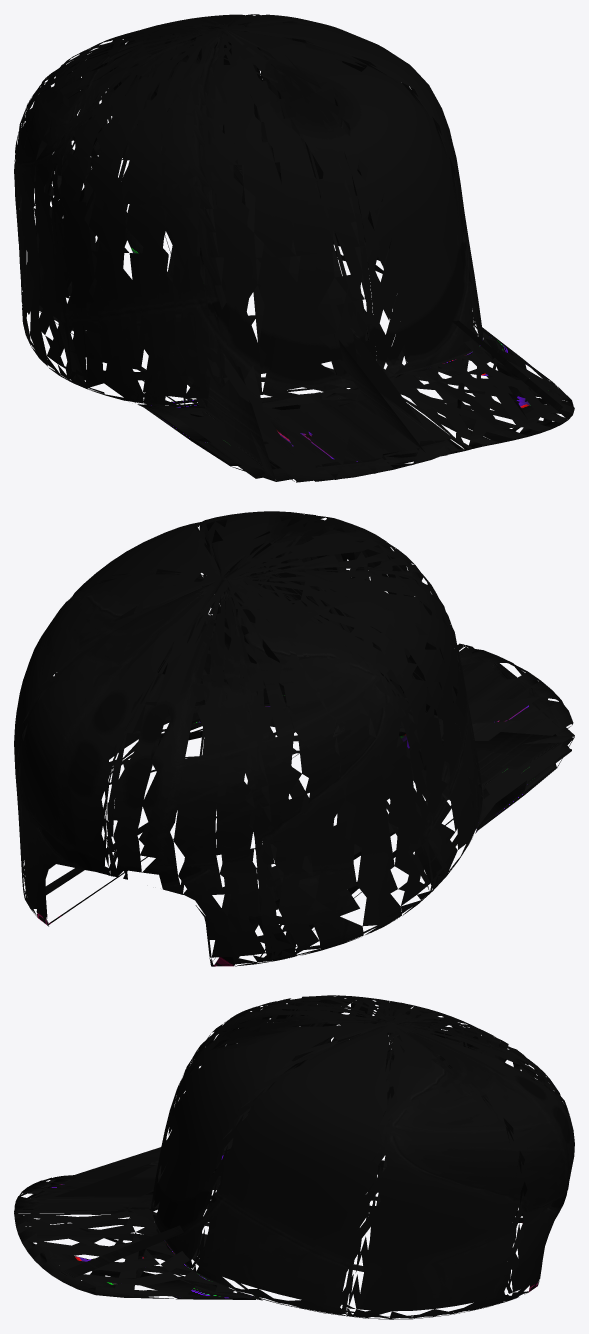
Rendered from FBS--Hat.glb.
3 renders of one model, top to bottom at view 1: azimuth 30°, elevation 25°; view 2: azimuth 150°, elevation 25°; view 3: azimuth 270°, elevation 25°, orthographic. The views are drawn at different scales.
Parts seen in each view (by area): view 1: Cap; view 2: Cap; view 3: Cap.
Part boxes in pixels (x1,y1,x2,y2): Cap: (14, 14, 574, 482); Cap: (14, 511, 574, 966); Cap: (14, 995, 574, 1319).
Bounding box in the file's own units: 0.1791 × 0.1429 × 0.3079.
1 material, 1 textured.
